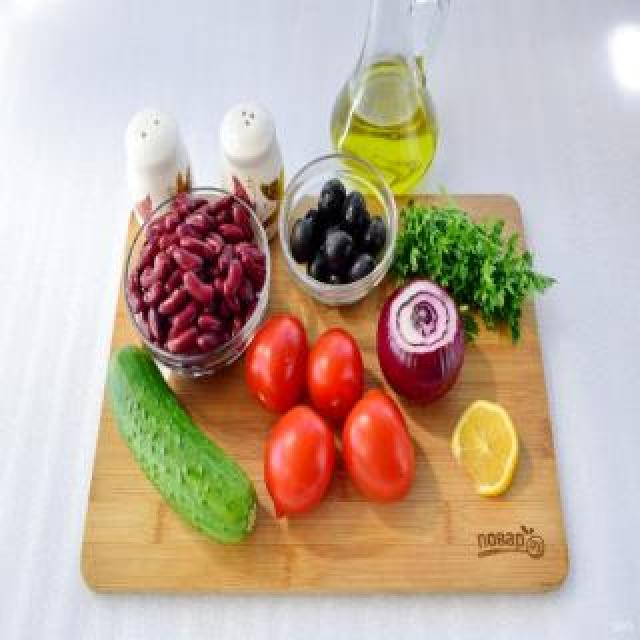Wet: (100, 340, 265, 560), (368, 274, 477, 417), (260, 392, 342, 527), (340, 382, 421, 514), (240, 310, 311, 414), (304, 314, 365, 424)
